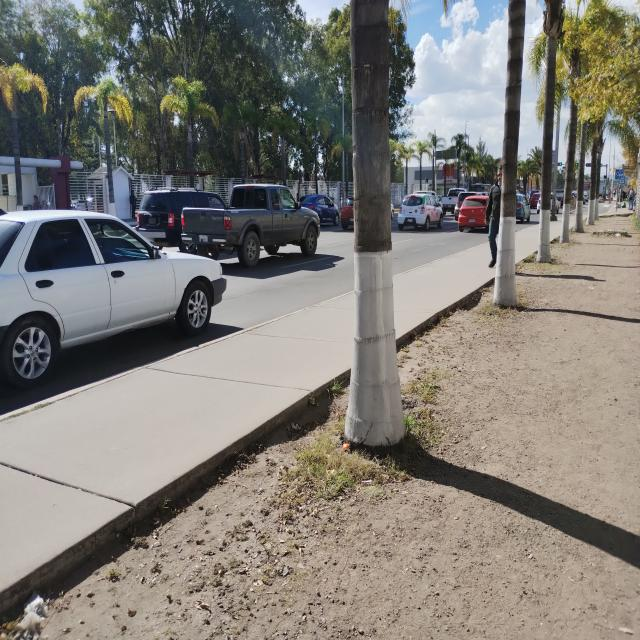Auto: (0, 206, 227, 381), (177, 183, 323, 266), (133, 184, 225, 242), (397, 193, 445, 230), (298, 193, 342, 228), (457, 195, 492, 233), (440, 188, 467, 215), (537, 189, 561, 216), (513, 193, 532, 225), (342, 194, 355, 228), (530, 191, 540, 209)
Autobus: (469, 183, 491, 196)
Peaton: (484, 163, 502, 269), (629, 186, 634, 211), (621, 186, 628, 202), (606, 188, 612, 204)
